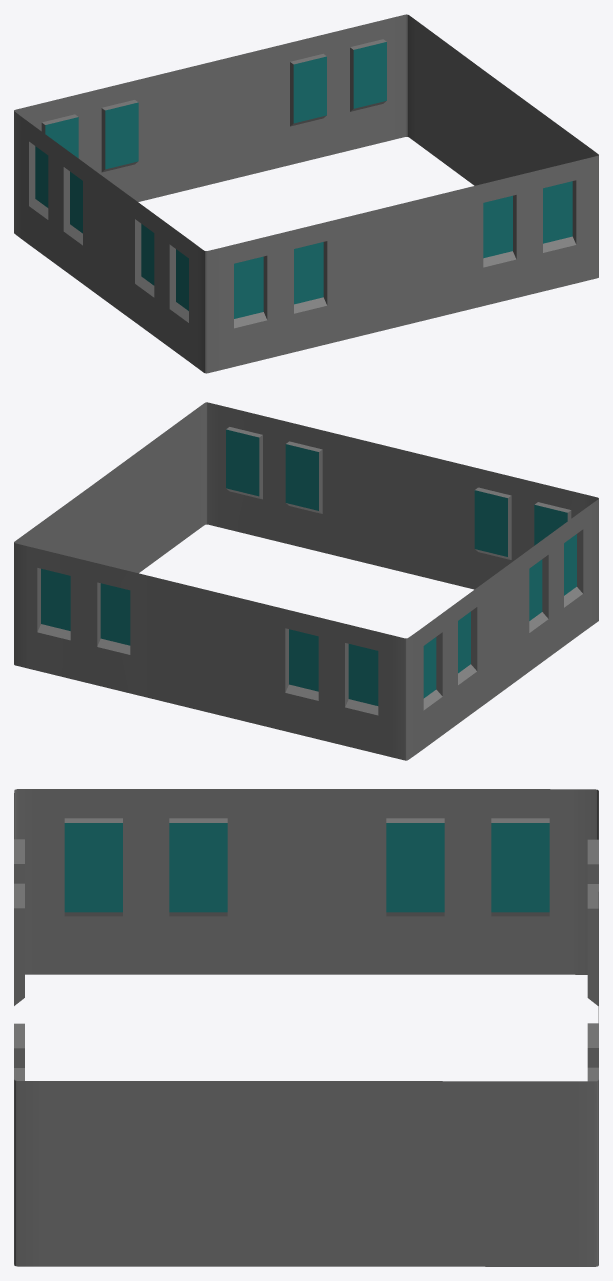
Rendered from Etage2.FBX.
3 views of the same model, one above another, from view 1: azimuth 30°, elevation 25°; view 2: azimuth 150°, elevation 25°; view 3: azimuth 270°, elevation 25° (orthographic). The views are drawn at different scales.
Visible parts, largest first — view 1: Demi Mur 006; view 2: Demi Mur 006; view 3: Demi Mur 006.
Boxes of the visible parts, bbox=[...] form: Demi Mur 006: bbox=[14, 14, 598, 373]; Demi Mur 006: bbox=[14, 402, 598, 760]; Demi Mur 006: bbox=[14, 789, 598, 1266].
Bounding box in the file's own units: 319 × 94.49 × 270.
